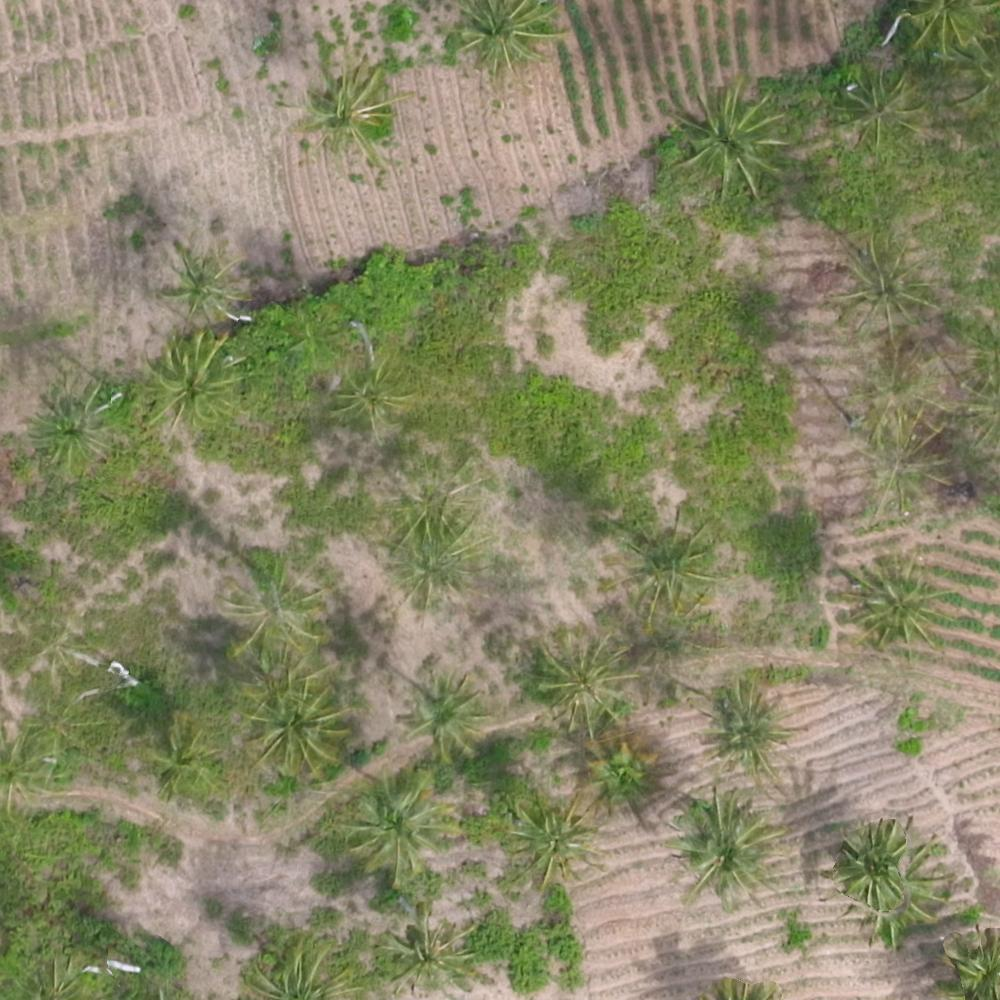Palm: (672, 83, 785, 197), (348, 772, 456, 876), (832, 236, 937, 338), (672, 799, 773, 902), (835, 825, 935, 921), (246, 681, 343, 778), (138, 331, 236, 427), (848, 556, 943, 655), (530, 635, 628, 730), (700, 680, 795, 775), (302, 67, 399, 159), (613, 522, 708, 610), (503, 797, 594, 883), (384, 905, 474, 991), (457, 2, 557, 76), (402, 676, 485, 759), (32, 386, 112, 469), (840, 69, 920, 149), (329, 355, 411, 433), (584, 742, 665, 817), (166, 246, 244, 319)
